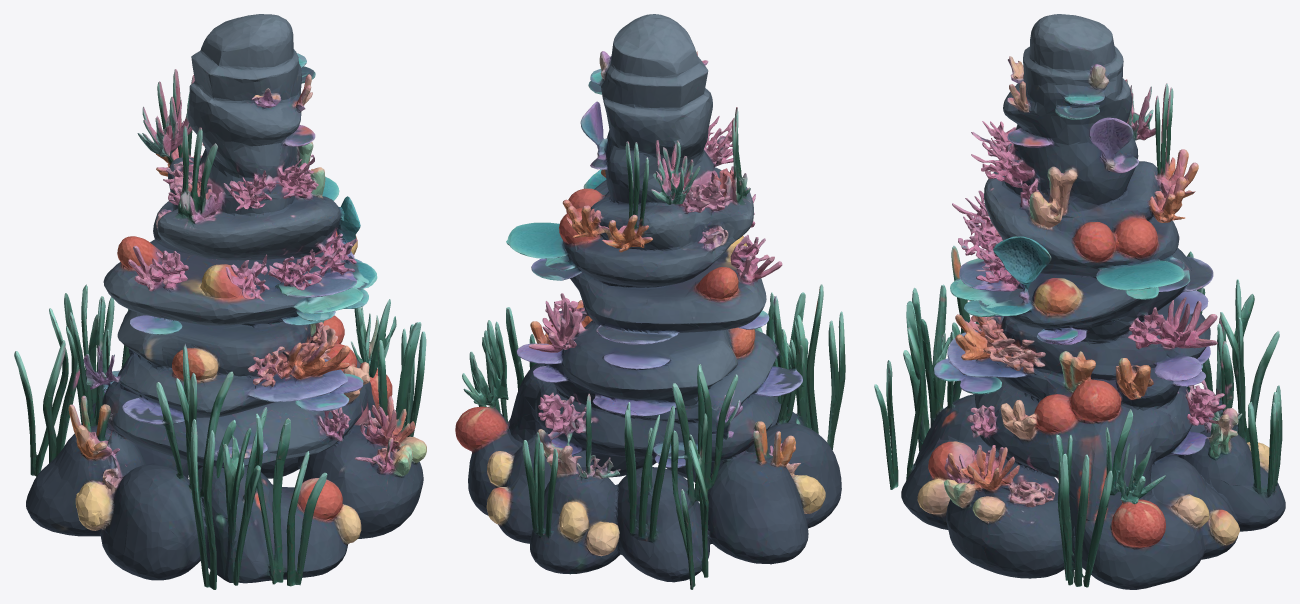
The model's file is meshy-pillar.glb.
3 renders of one model, left to right at view 1: azimuth 30°, elevation 25°; view 2: azimuth 150°, elevation 25°; view 3: azimuth 270°, elevation 25°, orthographic. The views are drawn at different scales.
Parts seen in each view (by area): view 1: mesh_node; view 2: mesh_node; view 3: mesh_node.
Part boxes in pixels (x1,y1,x2,y2): mesh_node: (14,14,426,589); mesh_node: (455,14,845,589); mesh_node: (874,14,1285,589).
Bounding box in the file's own units: 1.11 × 1.5 × 1.1.
1 material, 1 textured.
